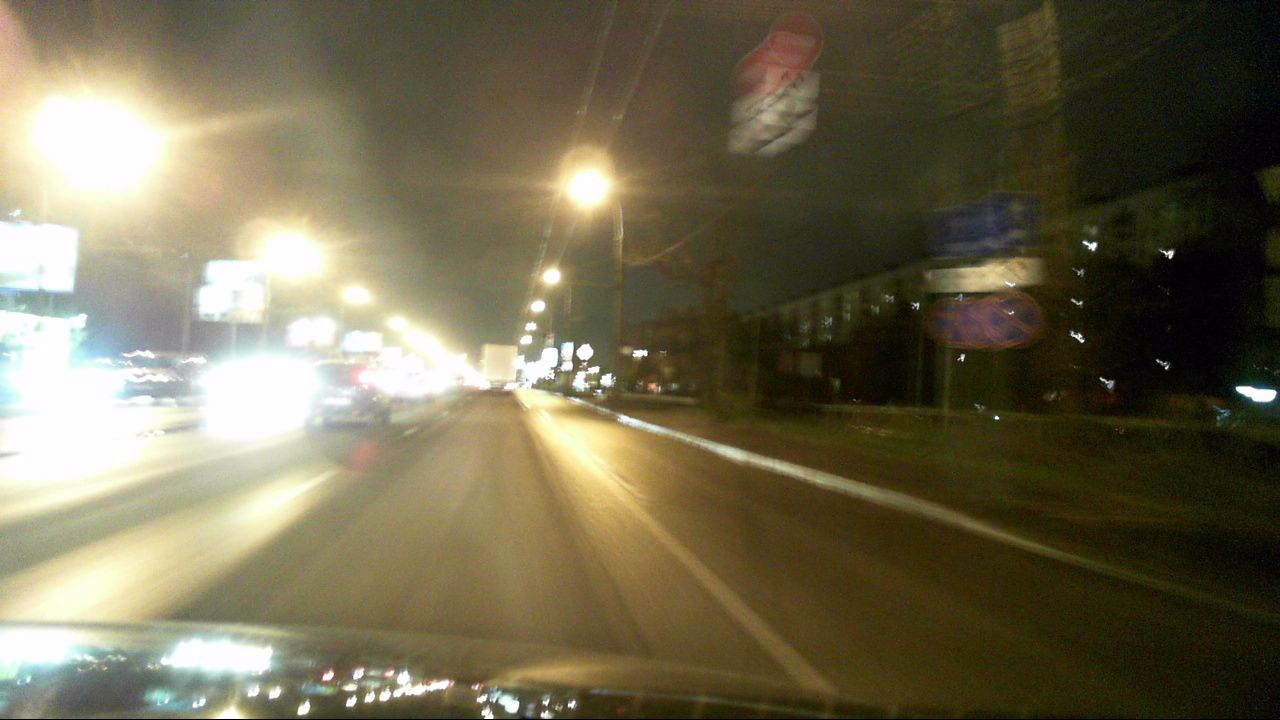No Parking: (982, 291, 1039, 351)
